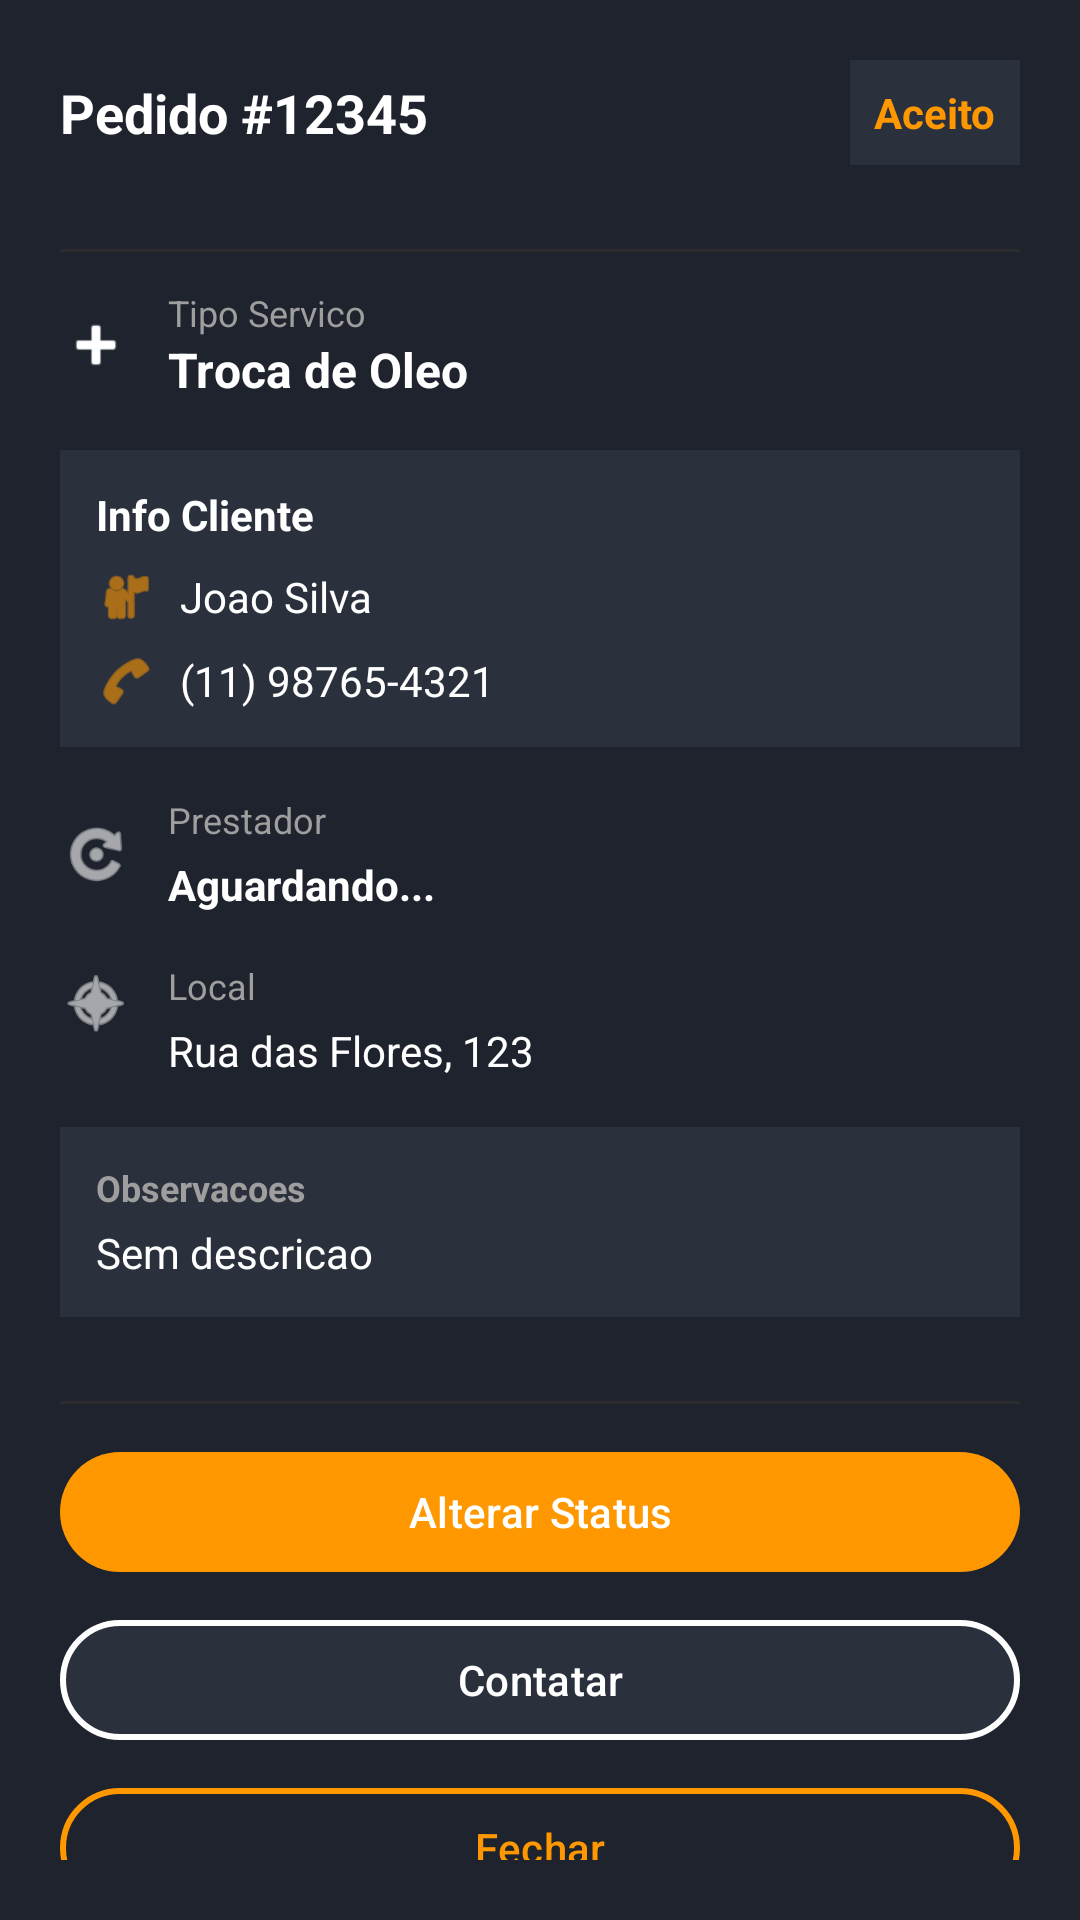

Where to tap for icons on this 1080x1920 app screen, as point (x, y):
add: point (95, 345)
call: point (126, 681)
compass: point (95, 1003)
myplaces: point (126, 597)
rotate: point (96, 854)
